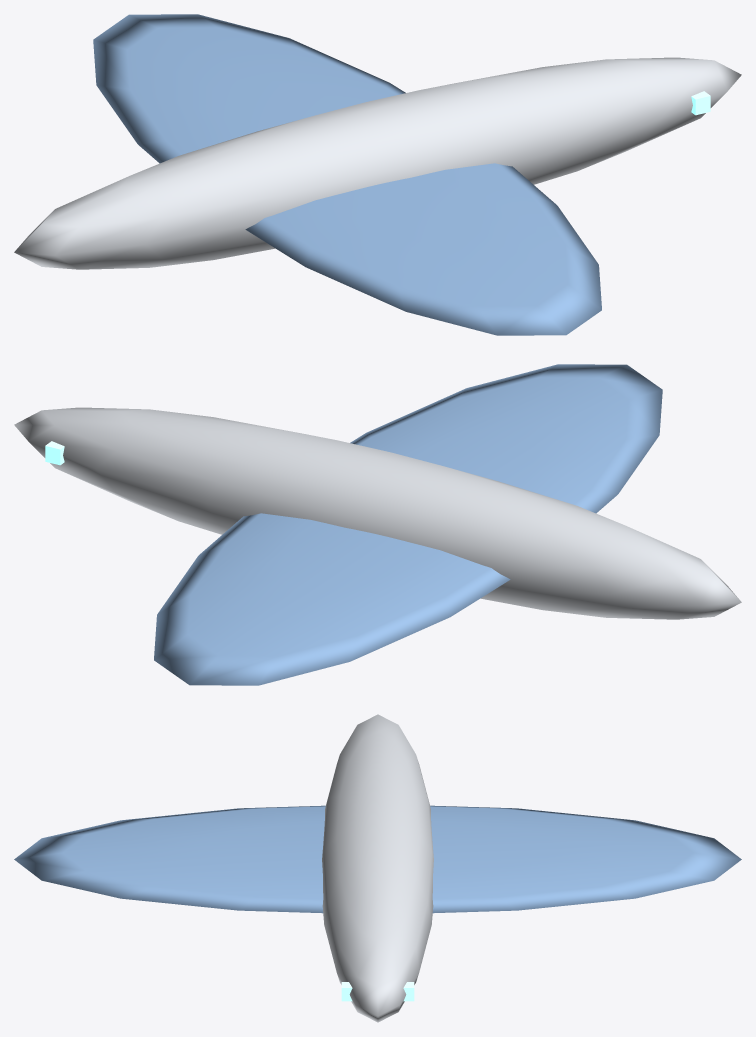
The picture shows the model from 3 angles, top to bottom: view 1: azimuth 30°, elevation 25°; view 2: azimuth 150°, elevation 25°; view 3: azimuth 270°, elevation 25°; orthographic projection. The views are drawn at different scales.
Visible parts, largest first — view 1: Wing, Fuselage; view 2: Wing, Fuselage; view 3: Wing, Fuselage.
Part boxes in pixels (x1=…): Wing: x1=93, y1=14, x2=601, y2=335; Fuselage: x1=14, y1=57, x2=741, y2=269; Wing: x1=154, y1=364, x2=662, y2=685; Fuselage: x1=14, y1=407, x2=741, y2=619; Wing: x1=14, y1=805, x2=741, y2=913; Fuselage: x1=322, y1=714, x2=433, y2=1022.
Size of the model in its own units: 0.96 by 0.14 by 1.
